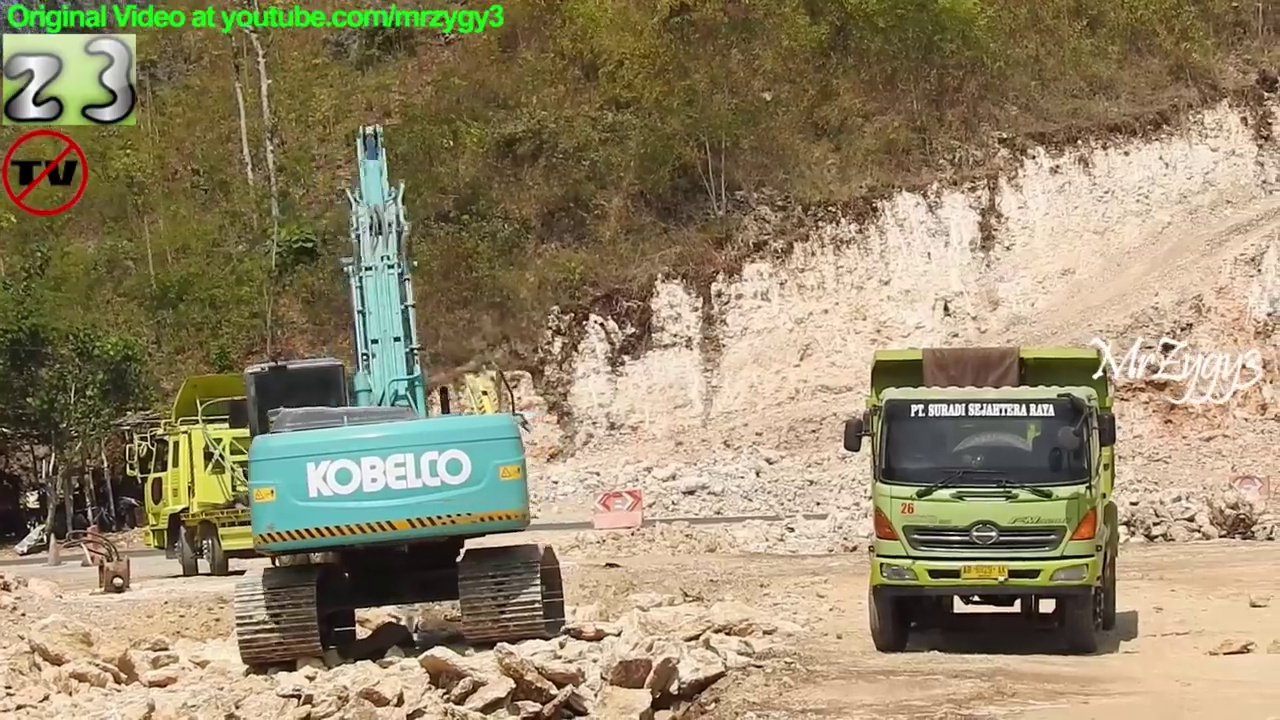excavator: (227, 117, 571, 669)
truck: (120, 368, 534, 581), (843, 343, 1120, 654)
